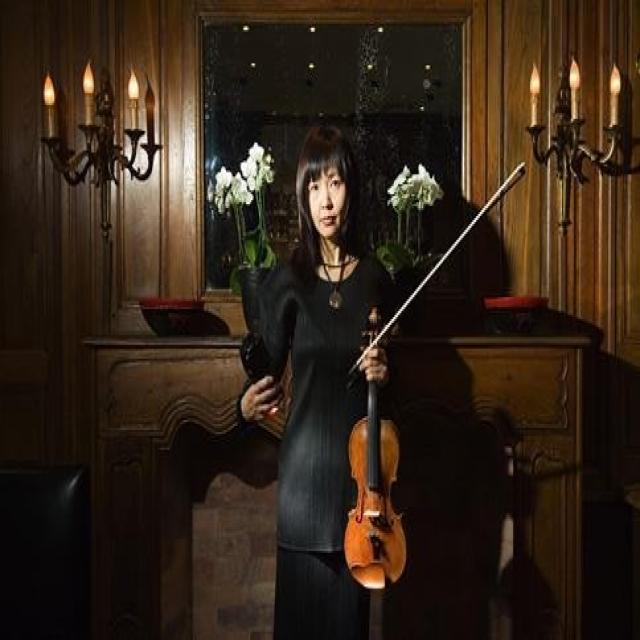violin: (342, 305, 412, 595)
